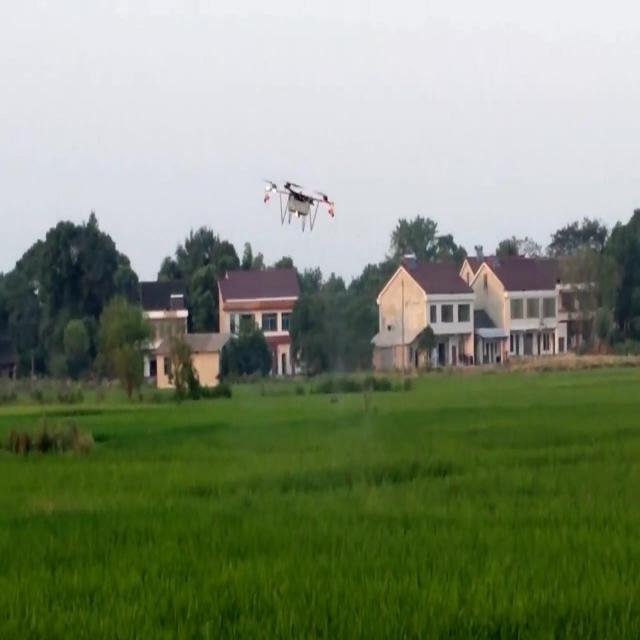UAV: (263, 179, 335, 233)
